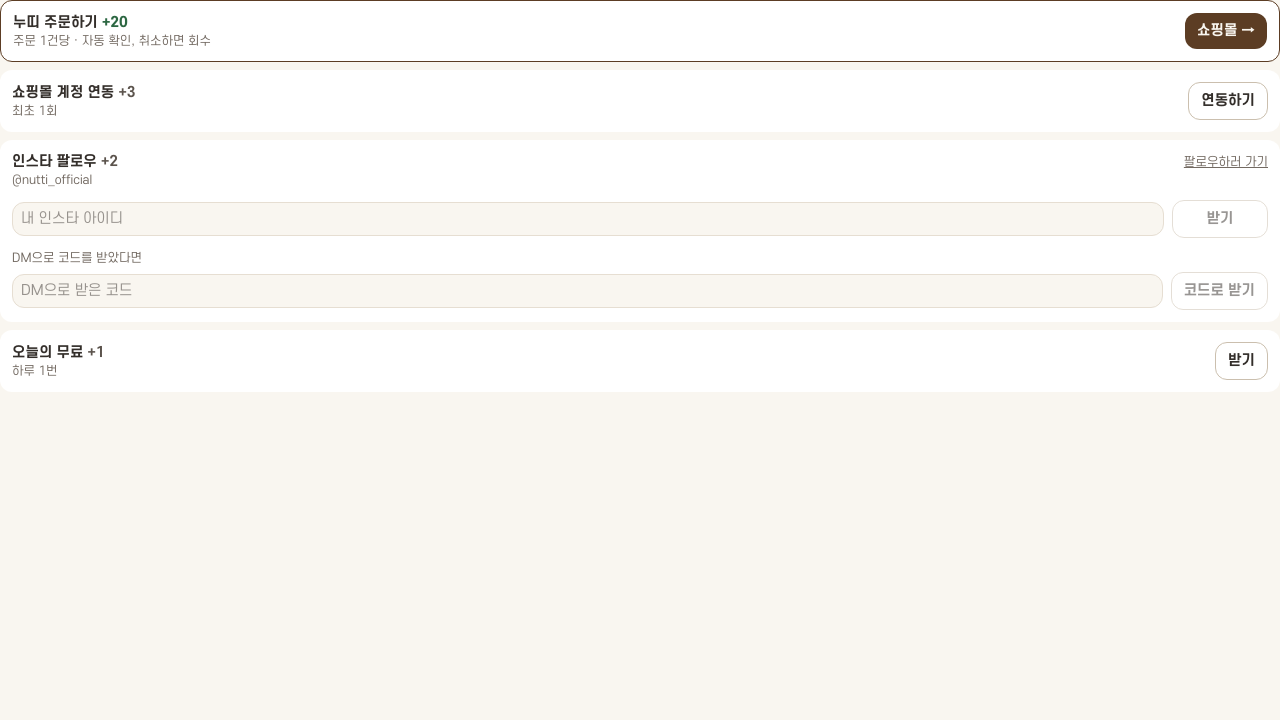
Test: EarnActionList › 쇼핑몰 서버가 답을 안 주면 그 사정을 말한다
This screenshot has width=1280, height=720.
Click the button "연동하기".
click(1228, 101)  # box [1188,82,1268,120]
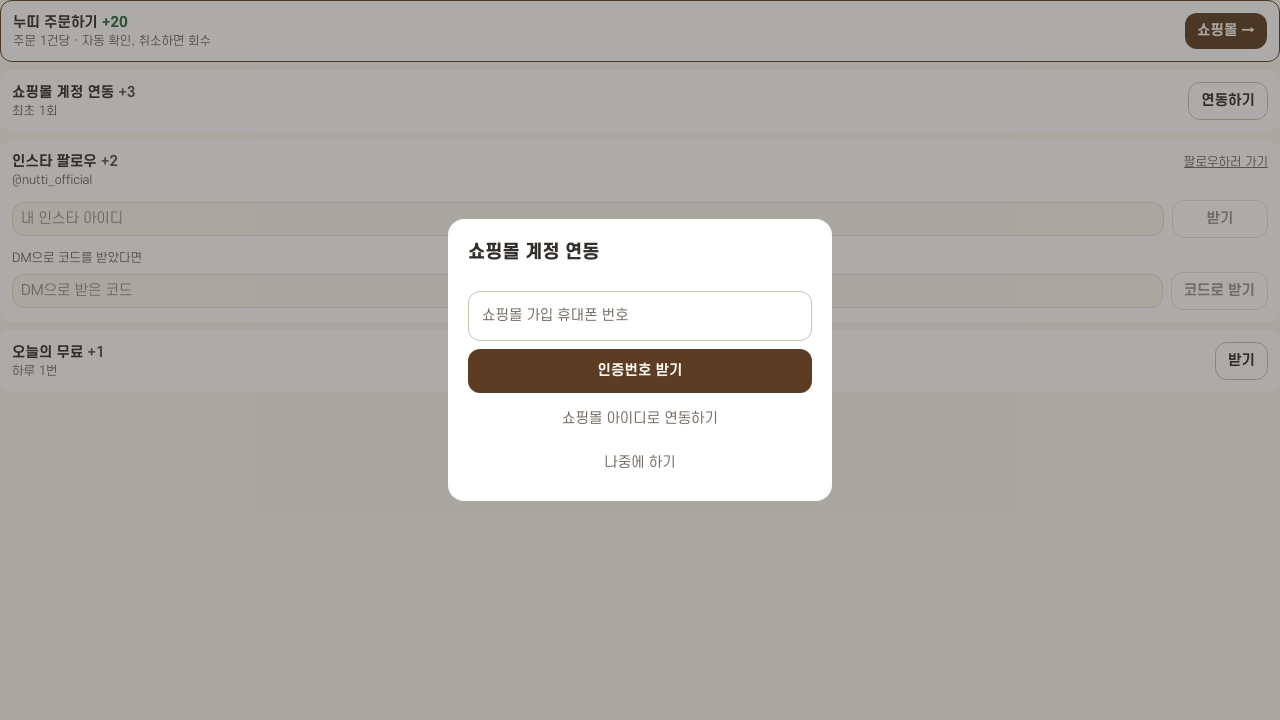
Type "01057731879" into the field labelled "쇼핑몰 가입 휴대폰 번호".
click(640, 316); type("01057731879")  # box [468,291,812,341]
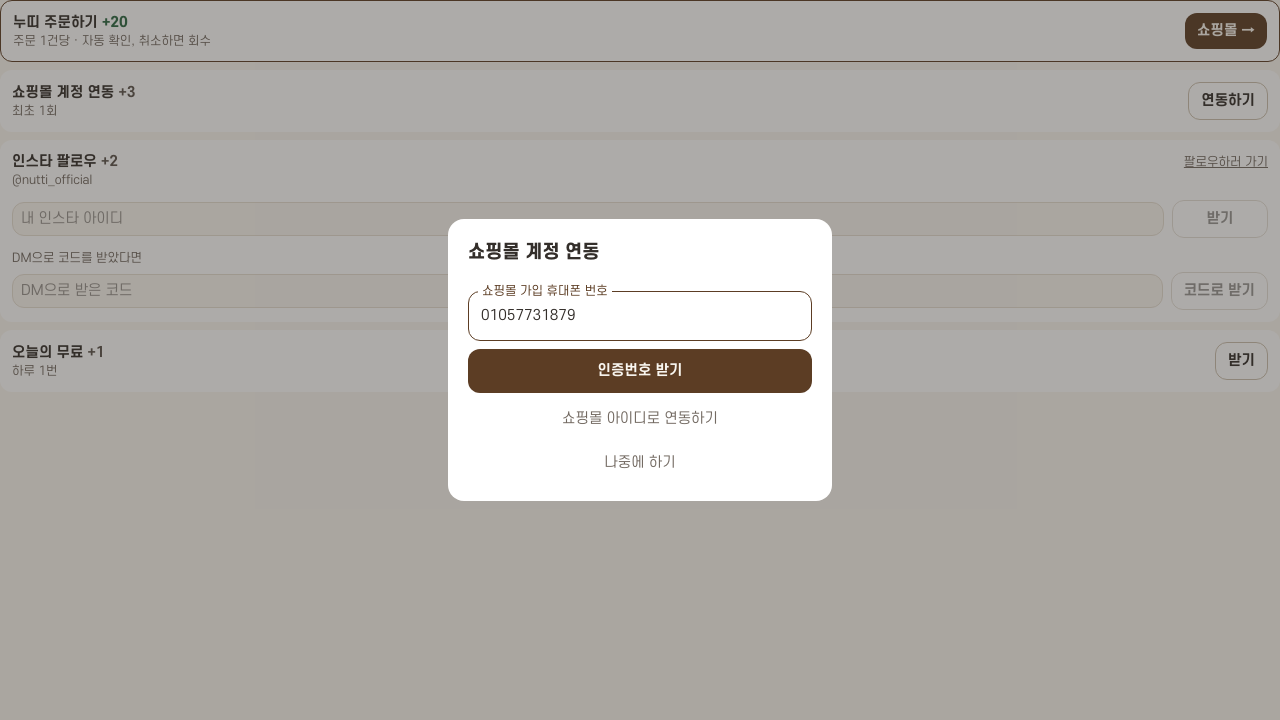
Click the button "인증번호 받기".
click(640, 371)  # box [468,349,812,393]
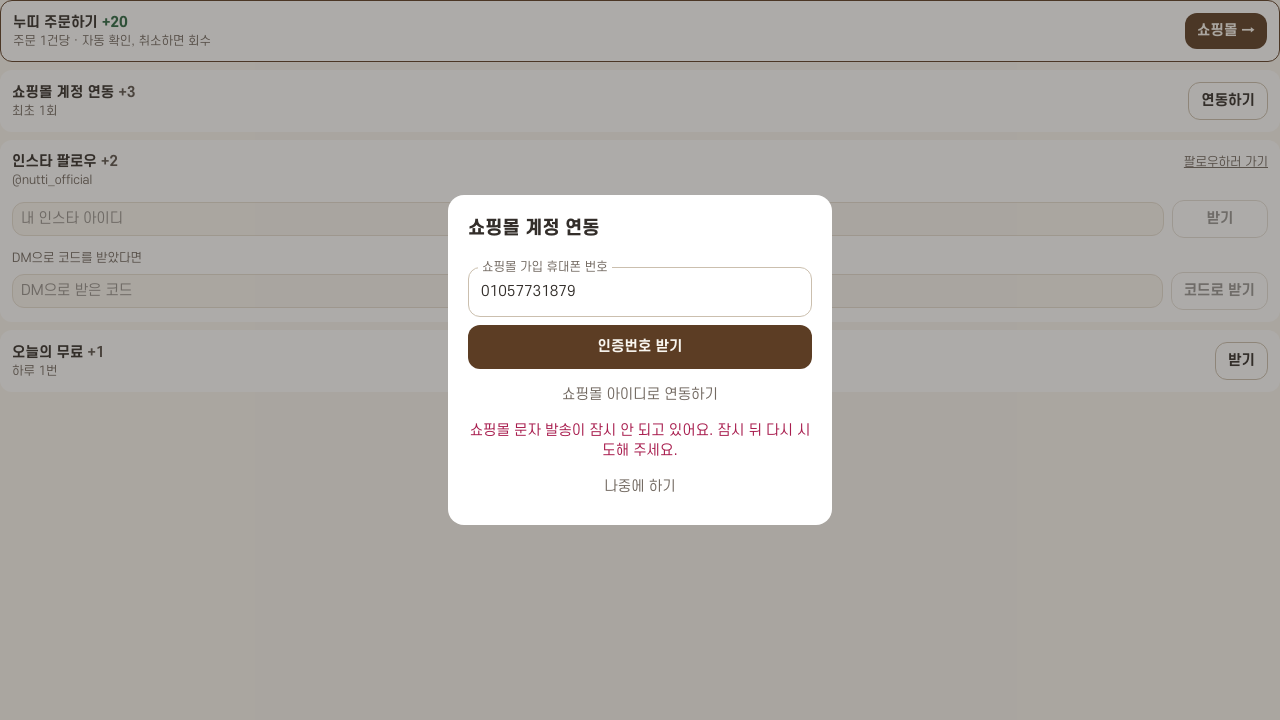
expect the text "쇼핑몰 문자 발송이 잠시 안 되고 있어요. 잠시 뒤 다시 시도해 주세요." is shown: met, box [468,421,812,461]
